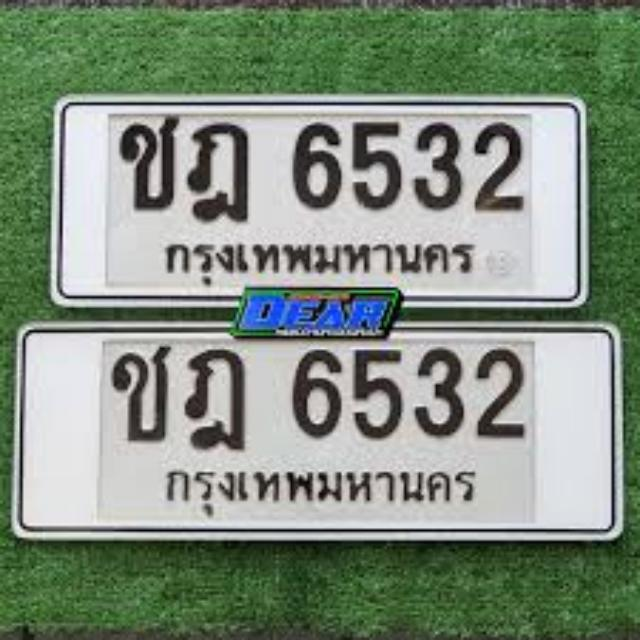licenseplate: (25, 328, 623, 536), (58, 95, 578, 301)
